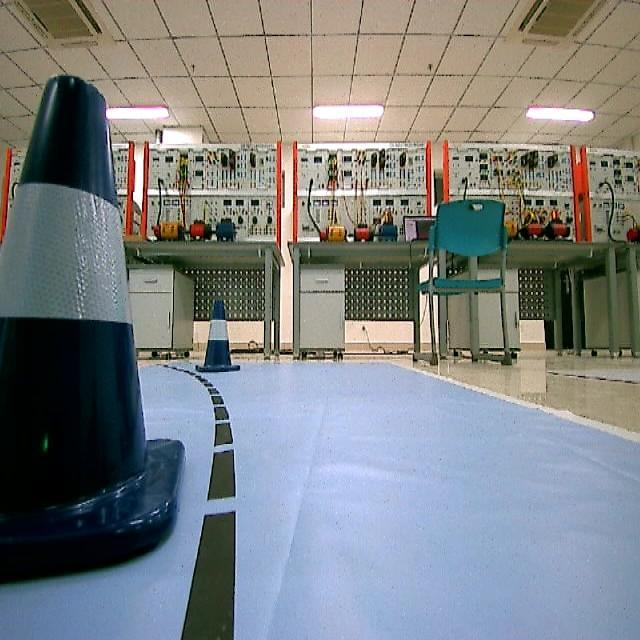obstacle: (0, 70, 182, 554), (197, 297, 242, 378)
